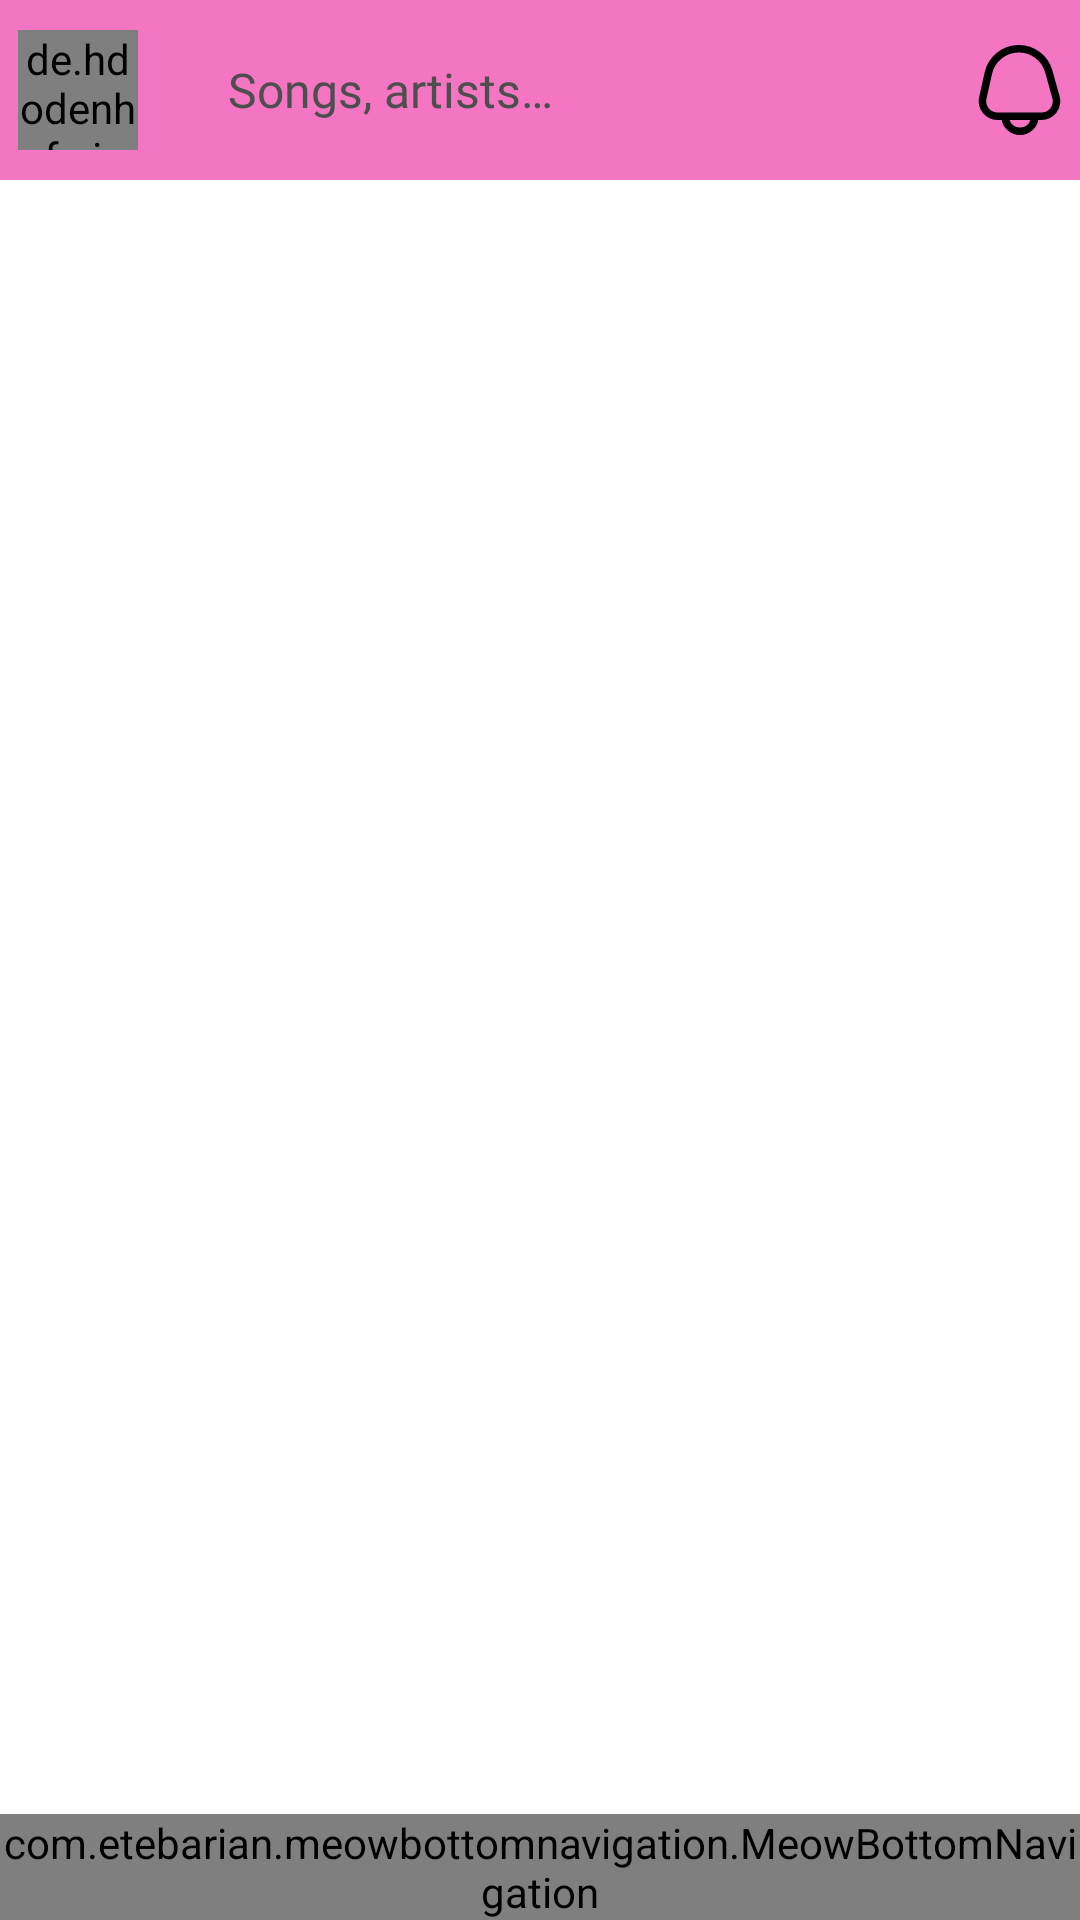

Named icons in this screenshot (1080×1920) and their centers, point (x, y):
bell: point (1019, 90)
